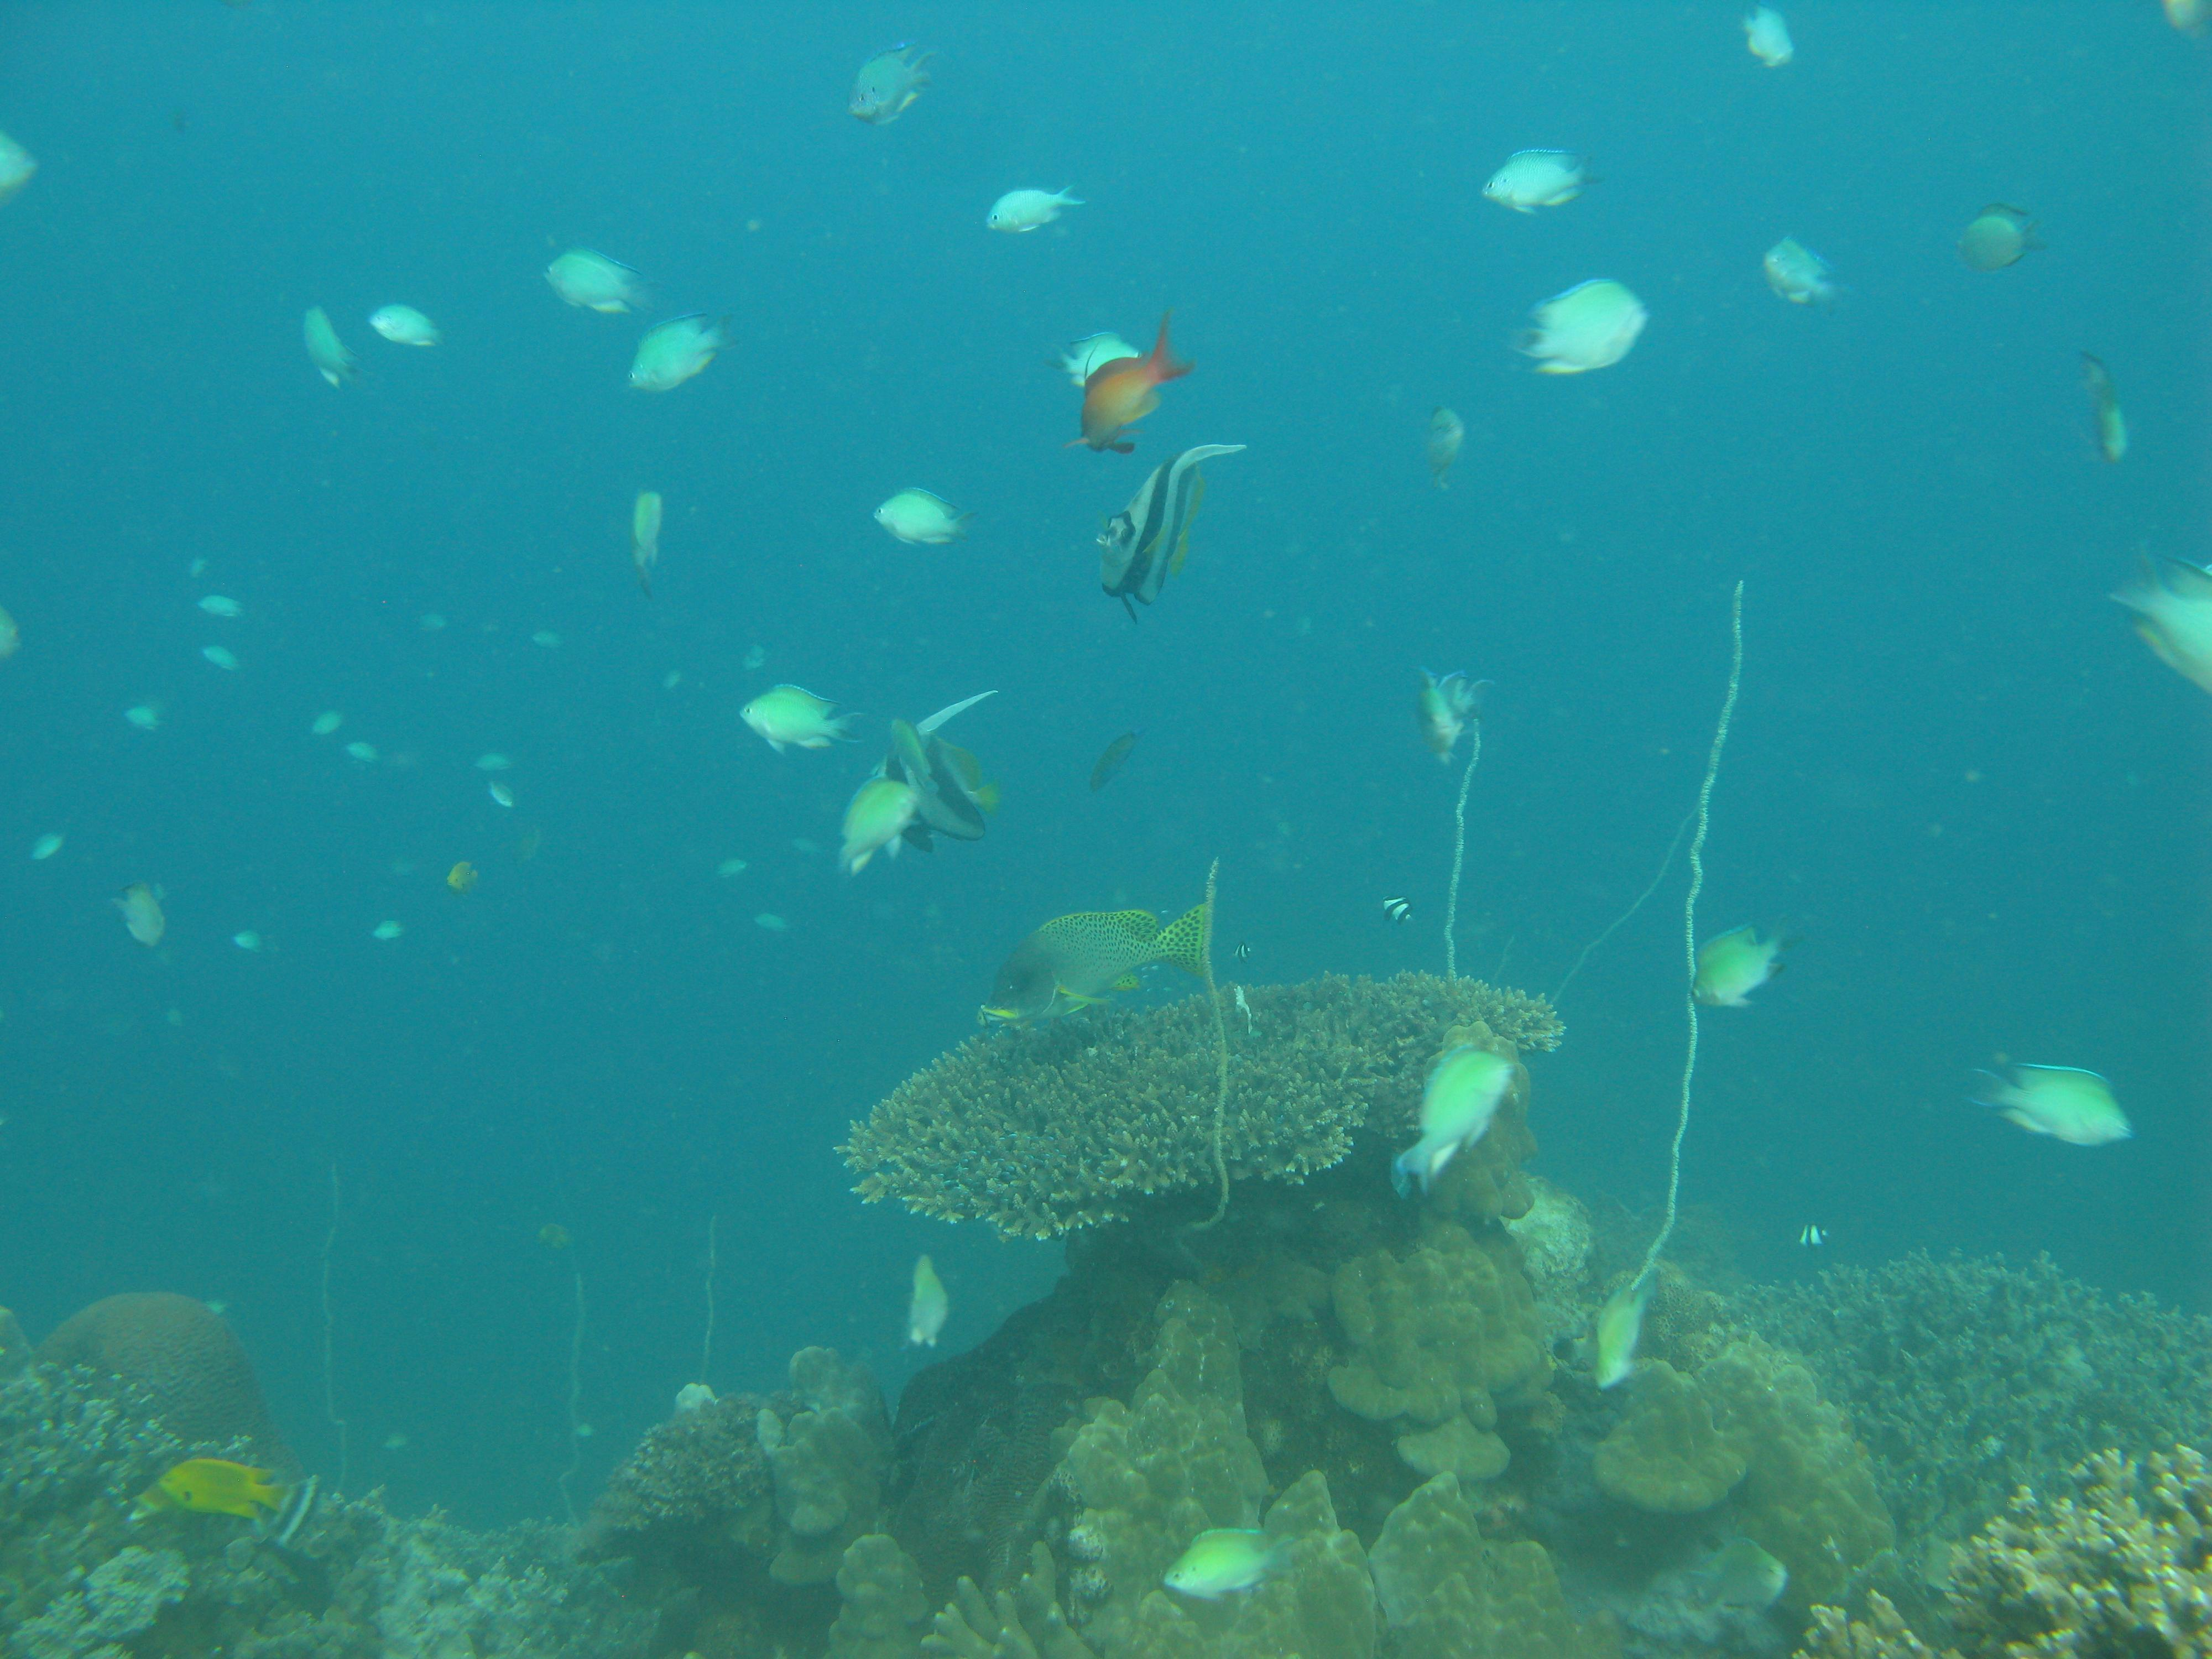Fish: (979, 896, 1223, 1032), (1092, 432, 1256, 606)
